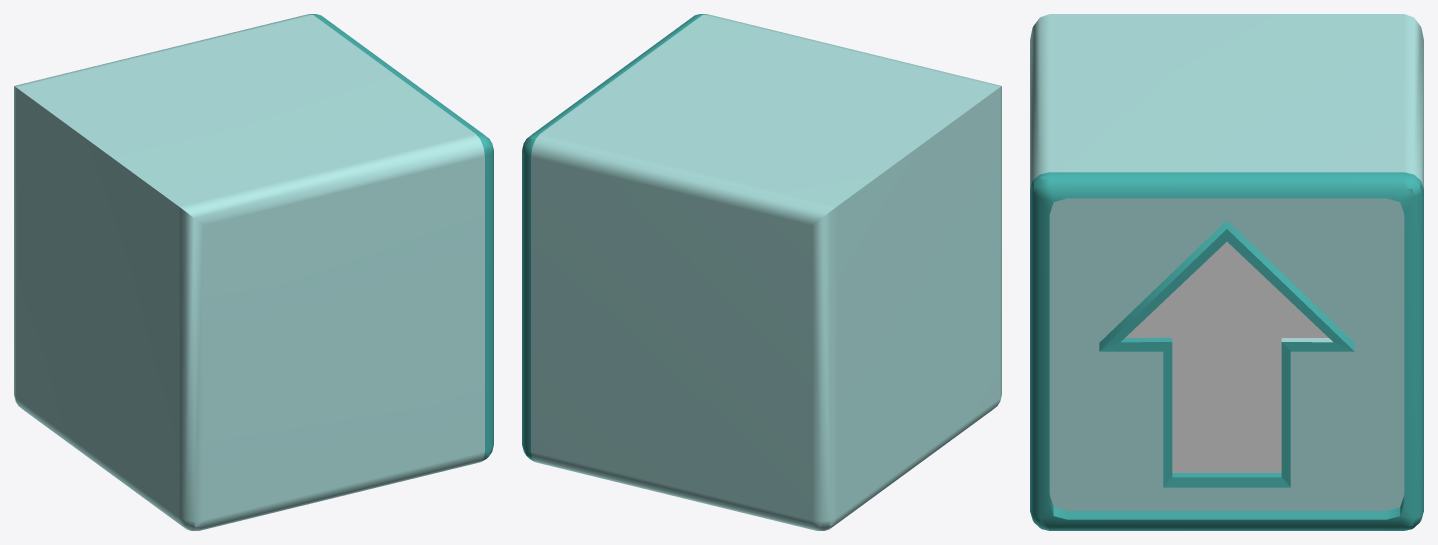
The model's file is blockarrow.fbx.
3 renders of one model, left to right at view 1: azimuth 30°, elevation 25°; view 2: azimuth 150°, elevation 25°; view 3: azimuth 270°, elevation 25°, orthographic. The views are drawn at different scales.
Visible parts, largest first — view 1: pCube1; view 2: pCube1; view 3: pCube1.
Boxes of the visible parts, x1,y1,x2,y2 form: pCube1: [14, 14, 493, 530]; pCube1: [522, 14, 1001, 530]; pCube1: [1030, 14, 1423, 530].
Bounding box in the file's own units: 100 × 100 × 100.
